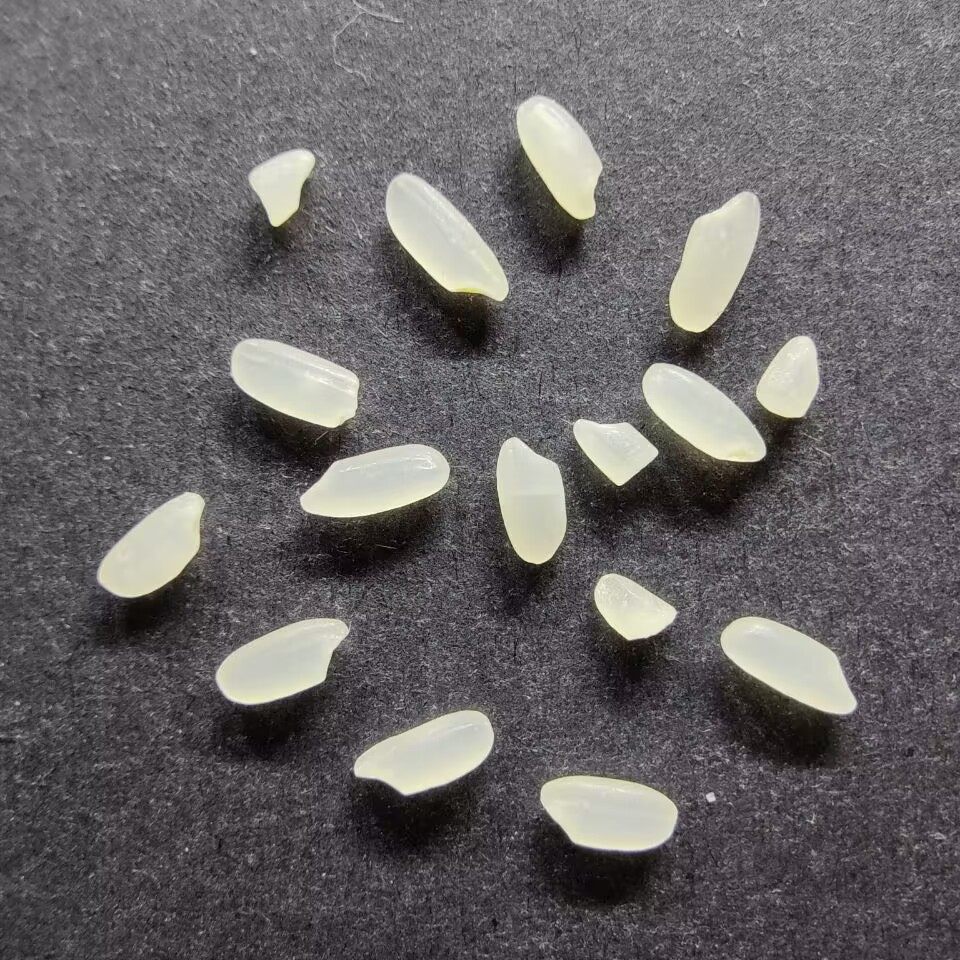broken: (571, 417, 658, 486), (592, 574, 679, 640), (754, 334, 820, 419), (246, 148, 315, 228)
rice: (384, 173, 510, 303), (719, 615, 858, 716), (667, 190, 761, 333), (641, 362, 766, 464), (352, 709, 494, 796), (214, 616, 350, 704), (229, 338, 359, 428), (96, 490, 204, 598), (299, 442, 449, 518), (515, 96, 603, 220), (538, 775, 676, 851), (494, 436, 567, 564)
